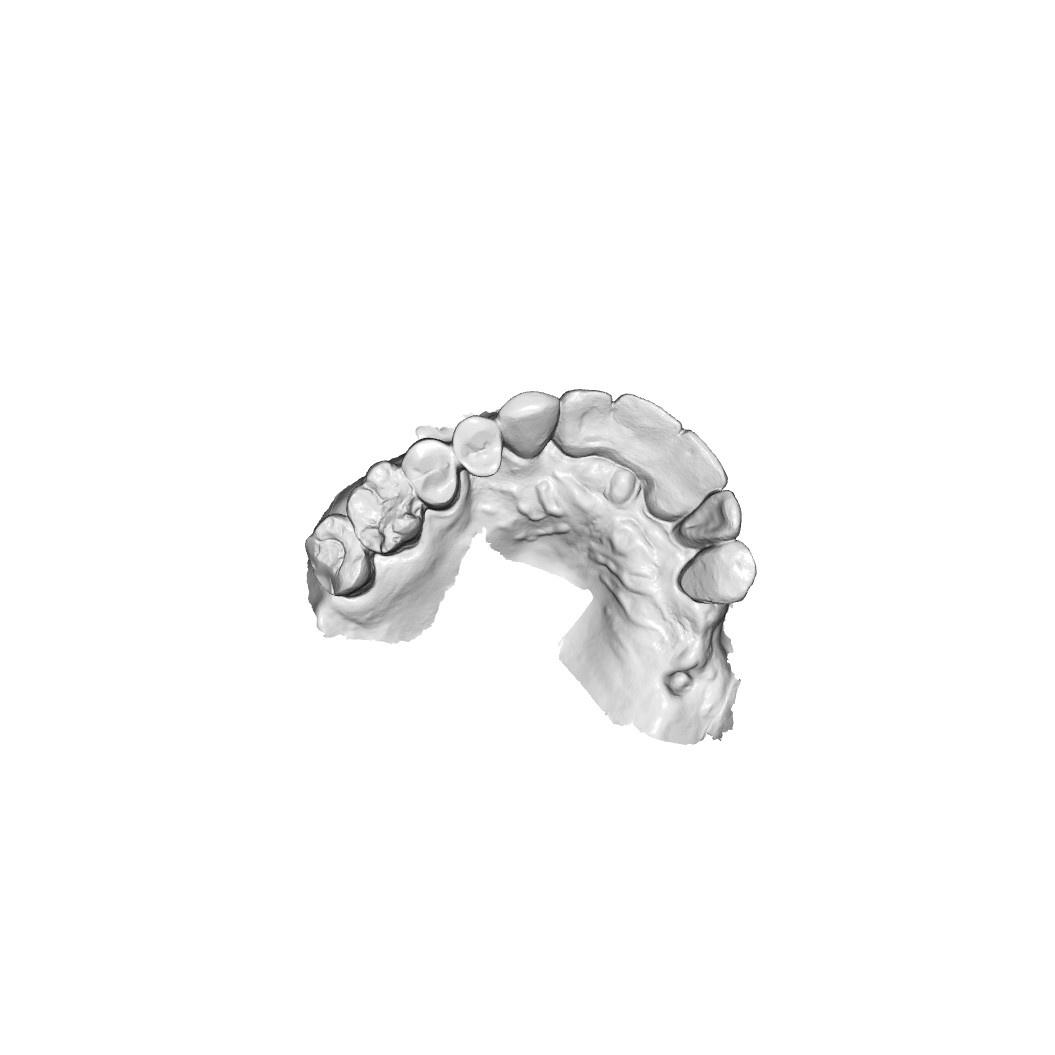canine: (678, 542, 761, 610), (503, 393, 559, 454)
incisor: (649, 433, 719, 513), (607, 395, 684, 467), (677, 491, 746, 546), (560, 391, 612, 450)
molar: (351, 464, 420, 547), (307, 513, 369, 588)
premolar: (403, 438, 459, 511), (454, 409, 504, 476)
